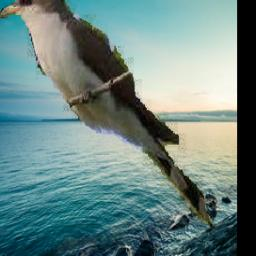Cuckoo: (0, 0, 220, 231)
